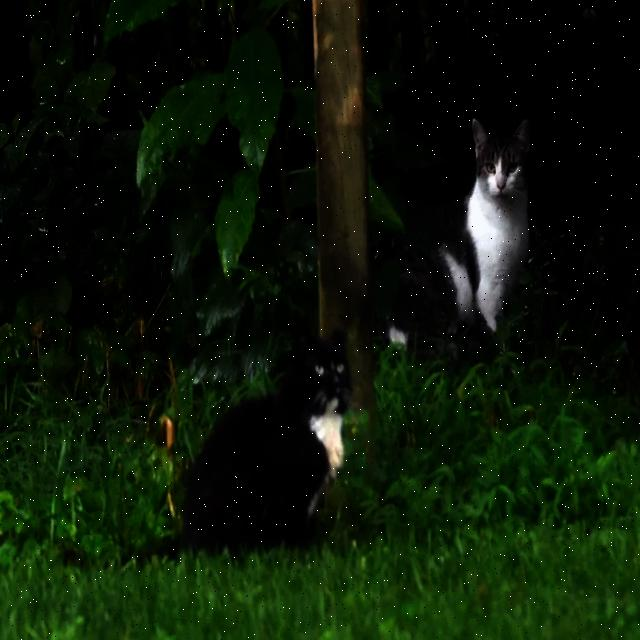cat: (374, 119, 531, 357), (182, 328, 350, 549)
